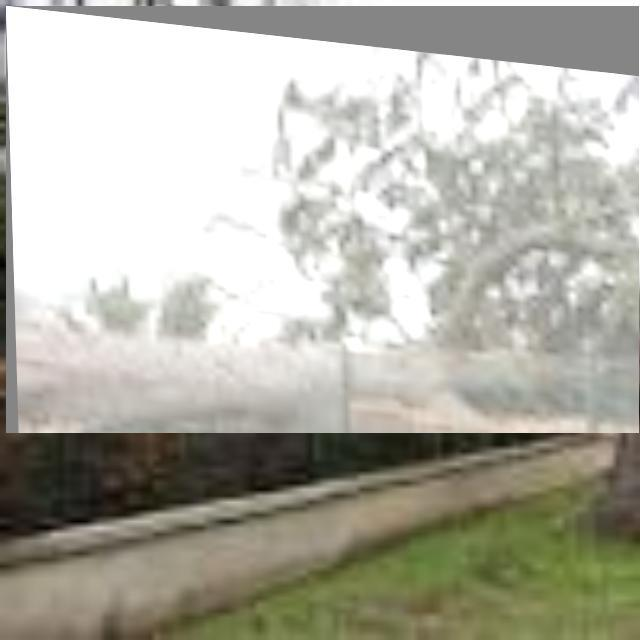fallen_tree: (6, 6, 640, 434)
